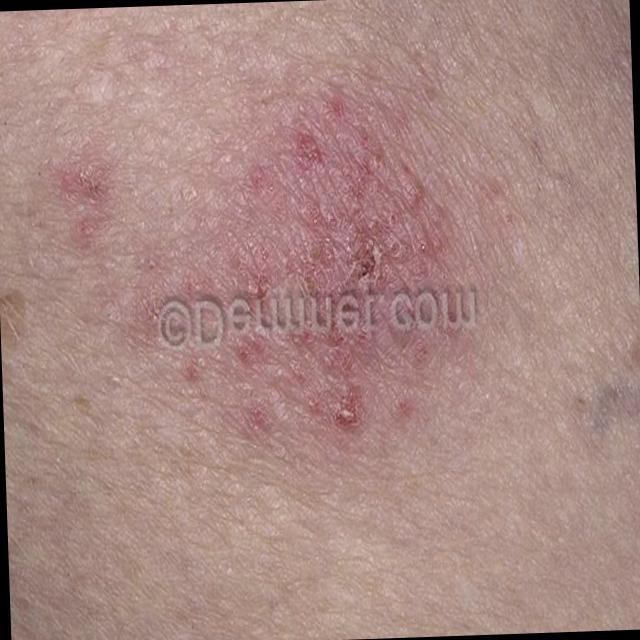Eczema: (54, 87, 453, 460)
